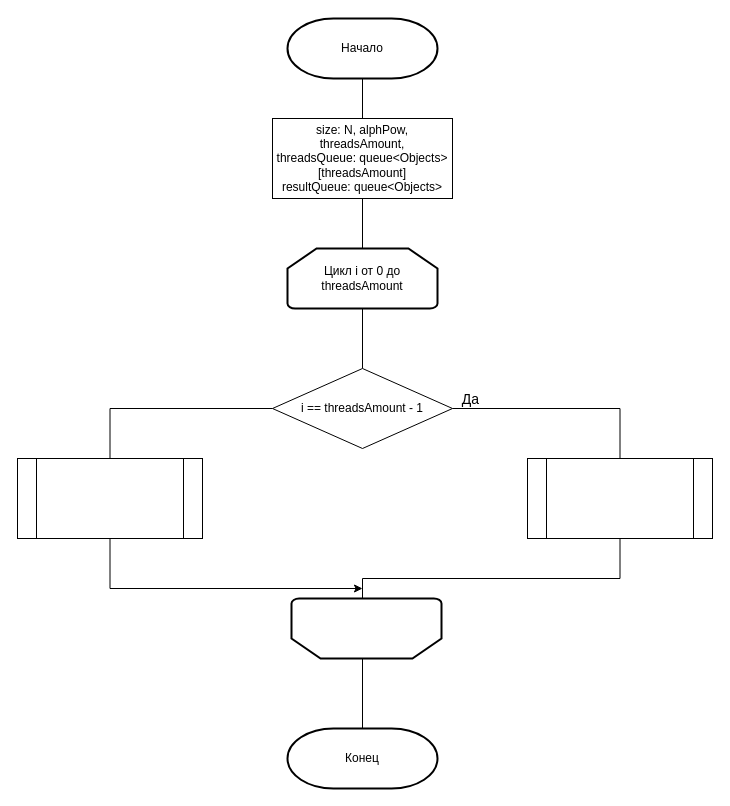
Some shapes in this 730 by 806 pixel diagram are drawn without their labels. The shapes that lost their labels are listed below. From the top down, each one's centre as x and y in pixels, then its label:
At [109,498]: "threadCall(i, threadsAmount, threadsQueue[i], threadsQueue[i + 1], N)".
At [619,498]: "threadCall(i, threadsAmount, threadsQueue[i], resultQueue, N)".
At [366,628]: "Увеличить i на 1 Цикл i".
